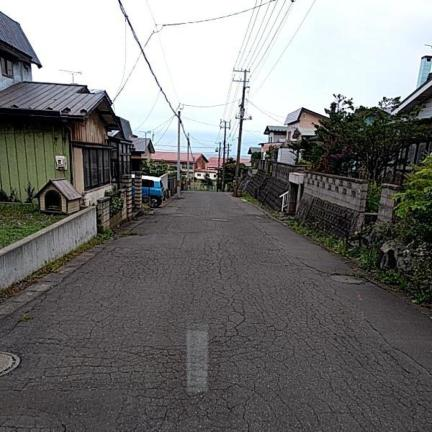Road: (0, 193, 431, 431)
